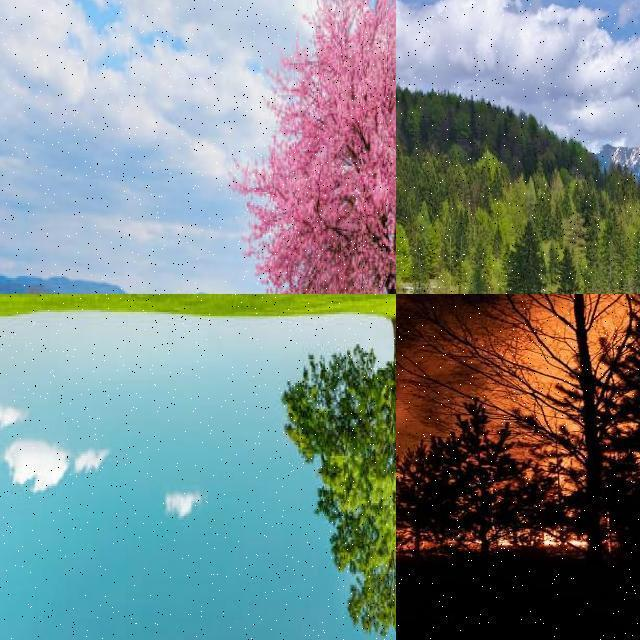tree: (422, 294, 640, 550), (220, 0, 396, 294), (284, 328, 396, 636), (422, 406, 532, 546), (396, 442, 450, 564), (396, 437, 452, 549), (396, 444, 440, 556), (396, 452, 432, 556), (589, 206, 631, 294), (396, 361, 436, 452), (503, 220, 547, 294), (442, 202, 470, 294), (418, 150, 446, 218), (532, 192, 566, 248), (404, 238, 436, 294), (550, 248, 586, 294), (468, 242, 497, 294), (396, 175, 416, 232), (396, 224, 410, 294), (396, 156, 408, 237), (396, 210, 408, 284), (628, 222, 640, 294), (396, 238, 408, 294), (397, 242, 408, 294), (396, 162, 402, 202)
